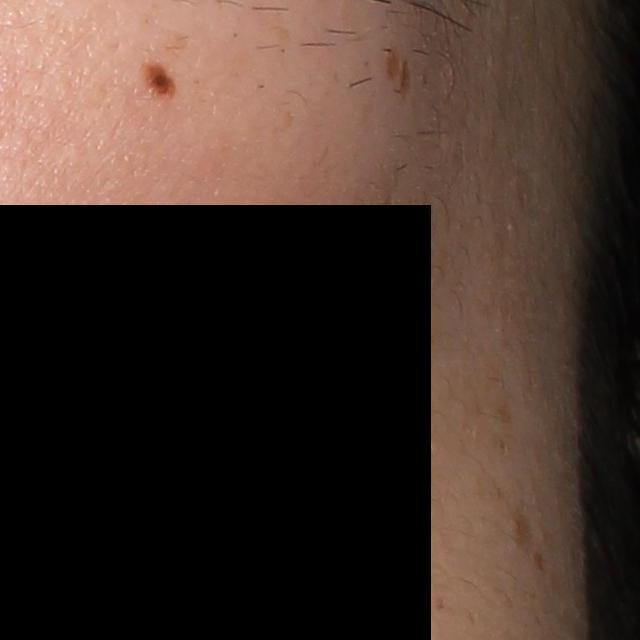melasma: (384, 46, 414, 101), (505, 508, 533, 555), (530, 548, 544, 571)
nevus: (135, 57, 180, 100)
